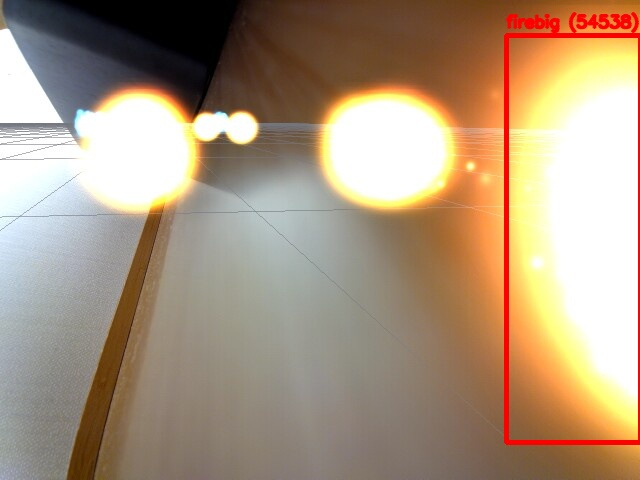firebig: (506, 35, 640, 442)
